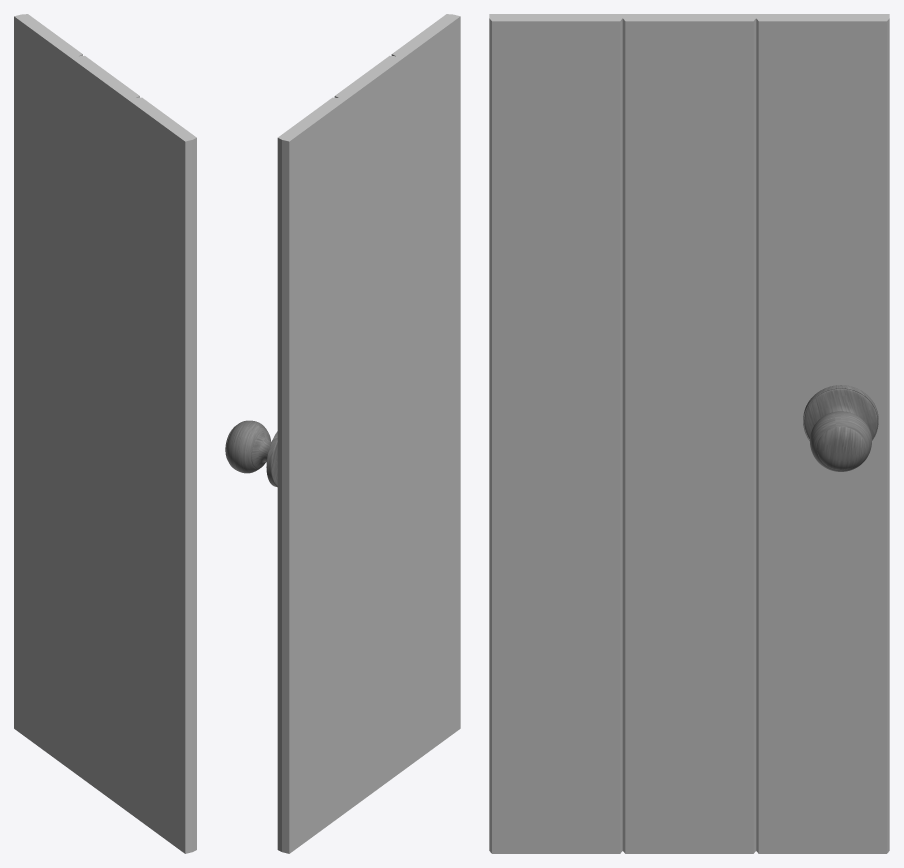
File: Escape_door.obj
3 renders of one model, left to right at view 1: azimuth 30°, elevation 25°; view 2: azimuth 150°, elevation 25°; view 3: azimuth 270°, elevation 25°, orthographic. The views are drawn at different scales.
Bounding box in the file's own units: 0.28 × 2.43 × 1.06.
